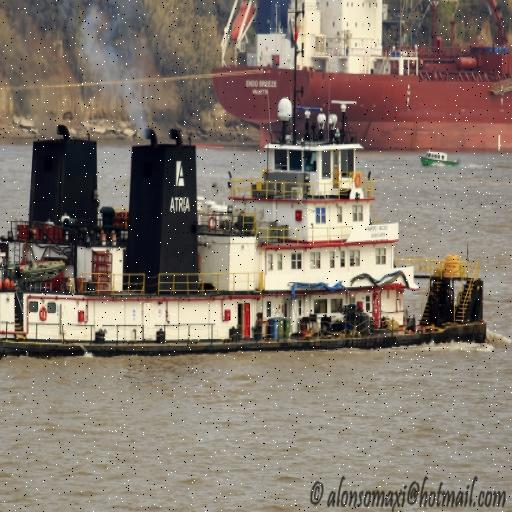tugboat: (1, 1, 497, 363)
